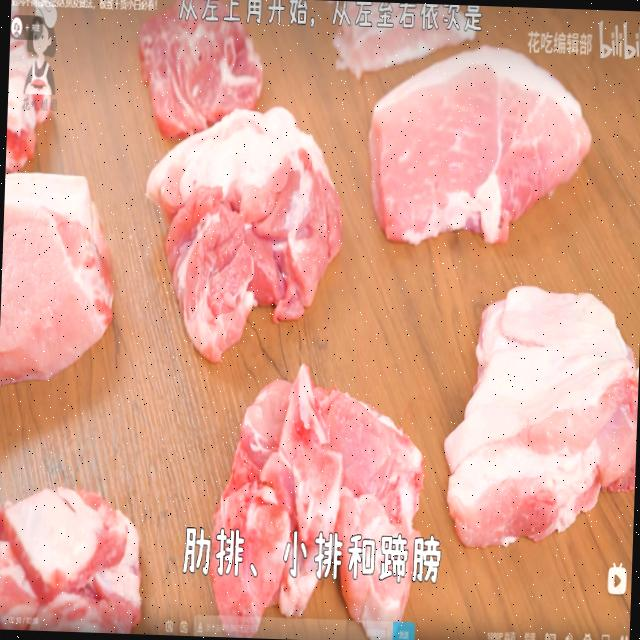meat: (144, 131, 357, 376), (465, 270, 639, 548), (227, 386, 424, 612), (372, 65, 584, 252), (0, 173, 118, 396), (0, 491, 150, 616), (136, 14, 260, 126), (5, 0, 18, 169)
